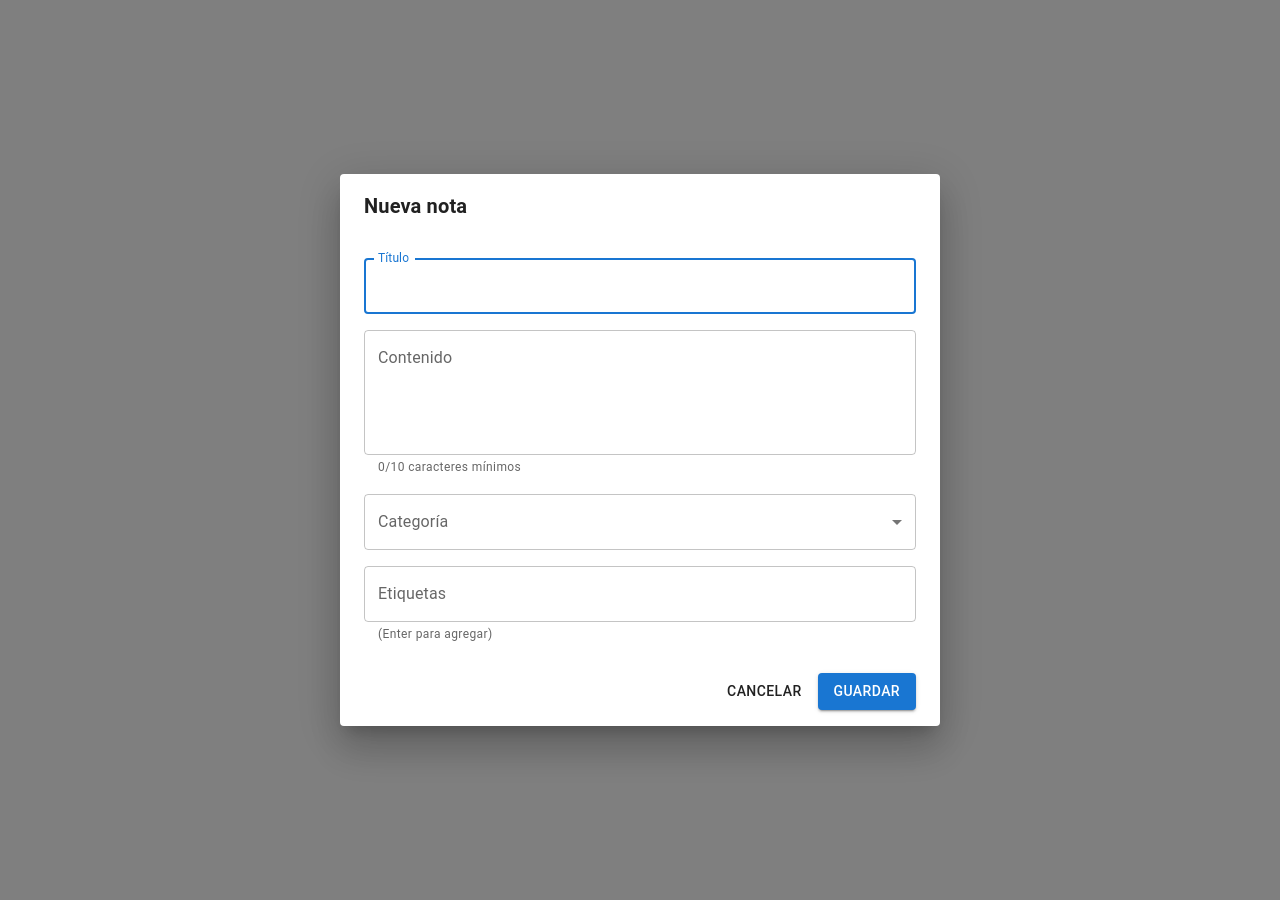
Test: NoteForm › shows error when title is empty
This screenshot has width=1280, height=900.
In the text box labelled "Contenido": (640, 393) [378,347,902,439], type "some content here"
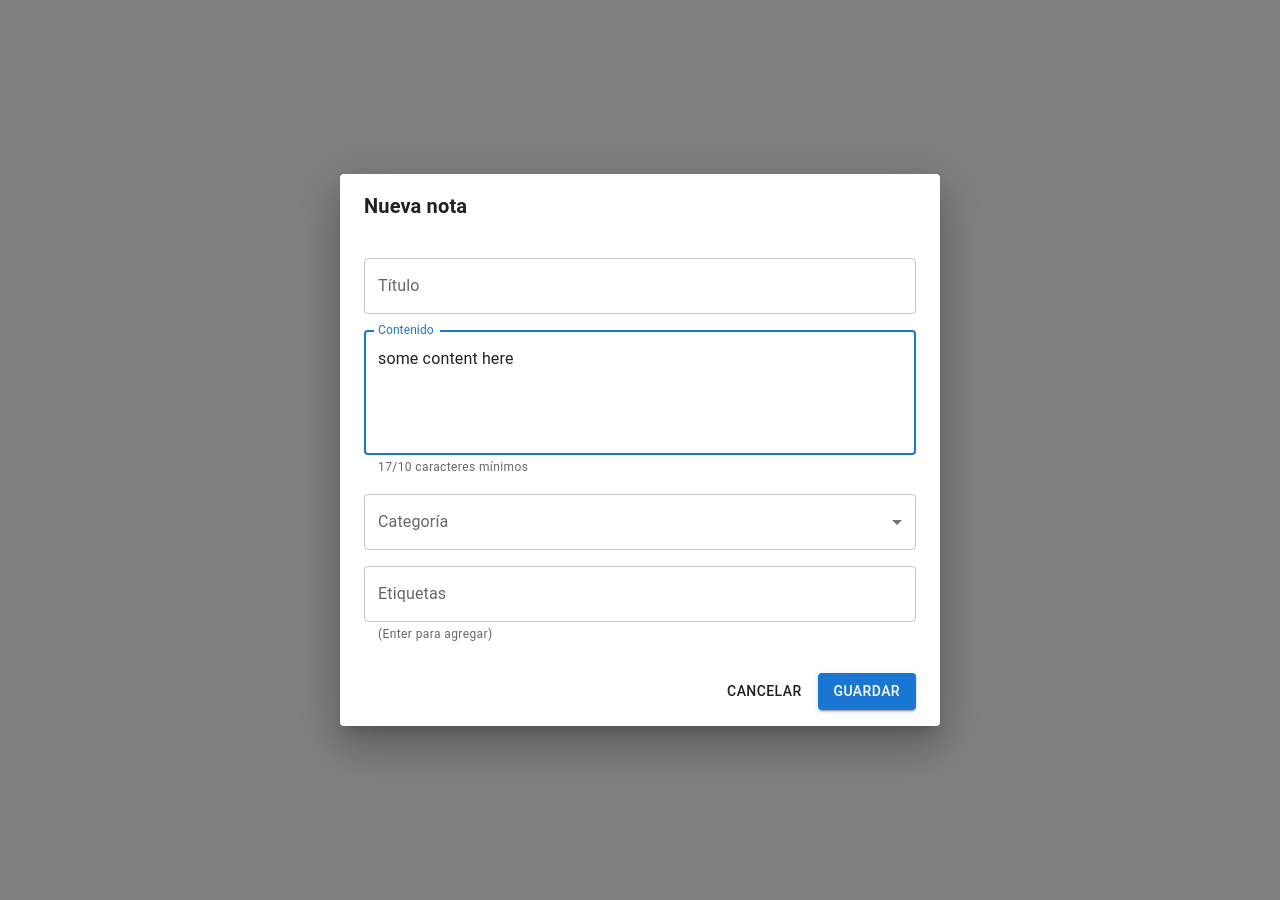
Click the button "Guardar": (867, 691) [818,673,916,710]
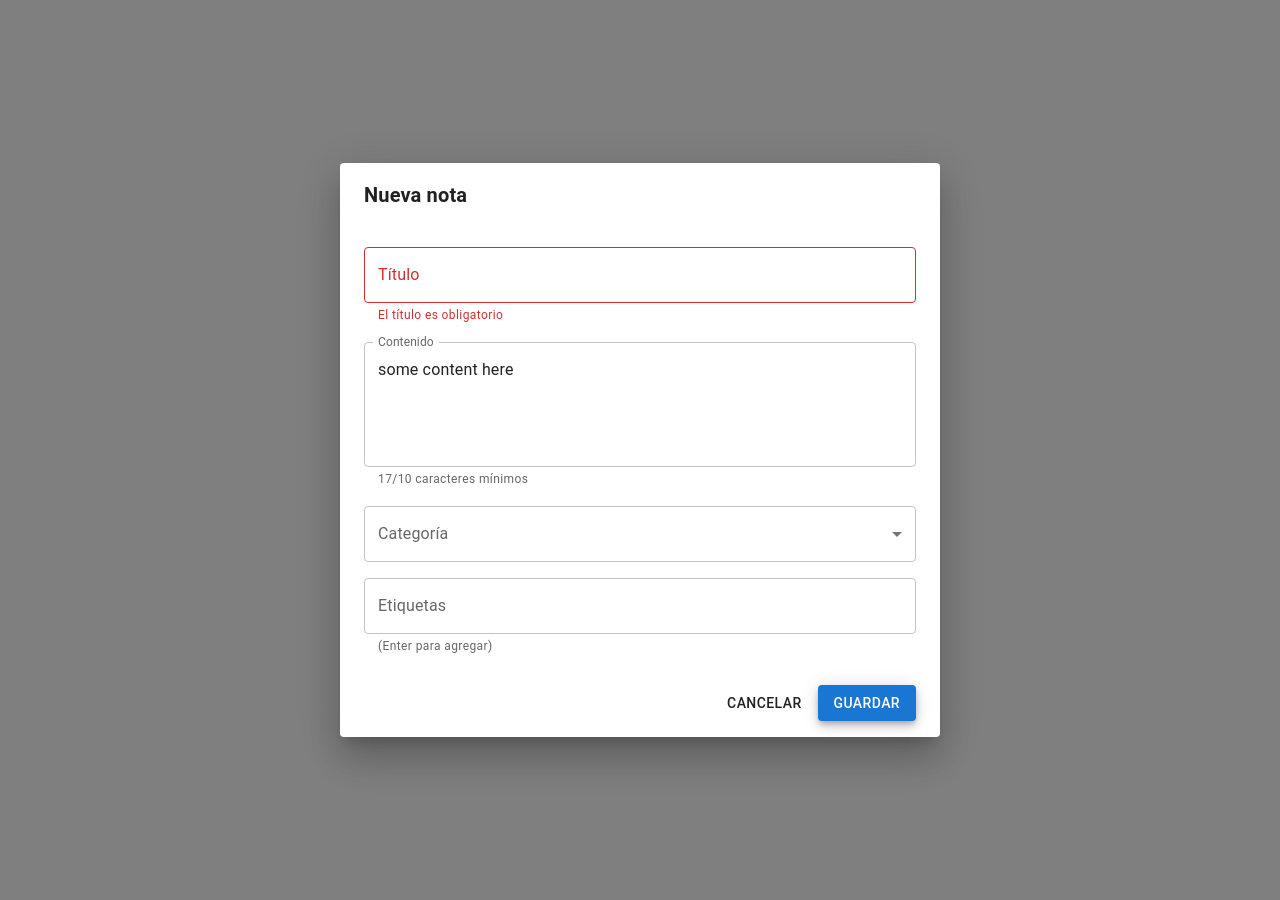
Now the text "El título es obligatorio" is shown, box [378,308,503,322]
